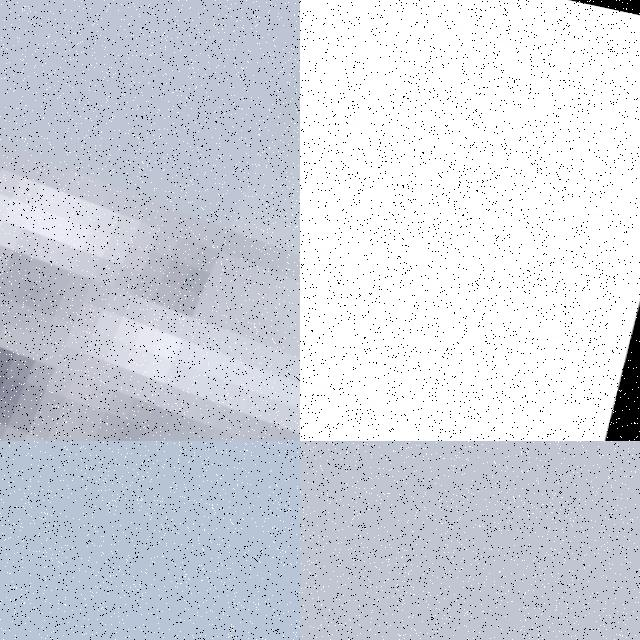0: (0, 0, 300, 441)
drone: (300, 0, 640, 441)
